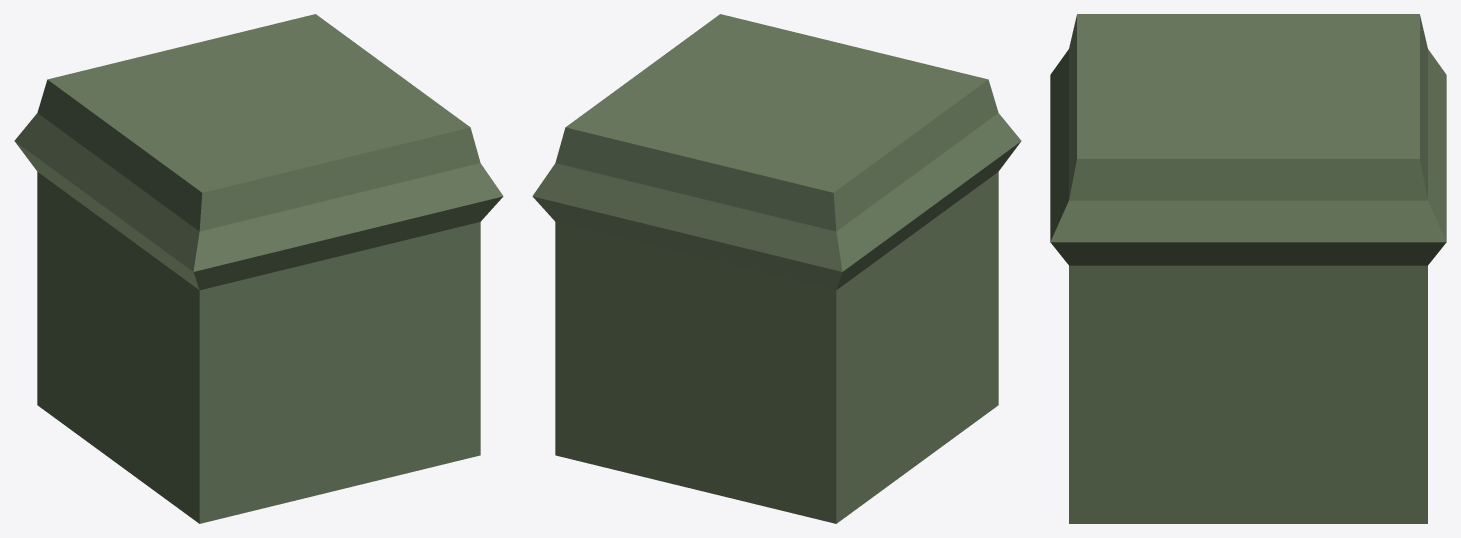
Rendered from Museum_littlePilar.fbx.
3 renders of one model, left to right at view 1: azimuth 30°, elevation 25°; view 2: azimuth 150°, elevation 25°; view 3: azimuth 270°, elevation 25°, orthographic. The views are drawn at different scales.
Visible parts, largest first — view 1: Archi_Sol.003; view 2: Archi_Sol.003; view 3: Archi_Sol.003.
Boxes of the visible parts, bbox=[...] form: Archi_Sol.003: bbox=[14, 14, 503, 523]; Archi_Sol.003: bbox=[532, 14, 1021, 523]; Archi_Sol.003: bbox=[1050, 14, 1446, 523].
Size of the model in its own units: 88.94 by 89.57 by 88.94.
